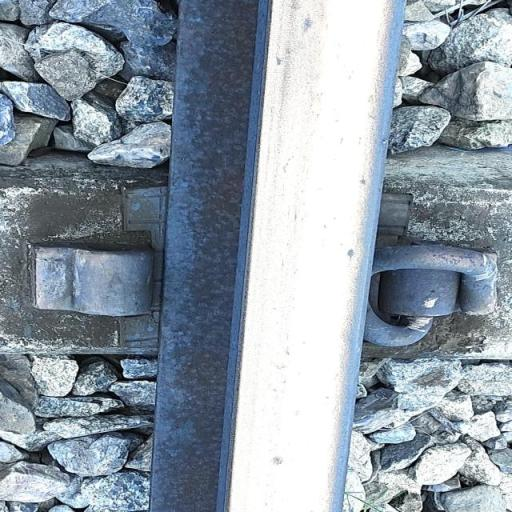erc_good: (352, 231, 508, 369)
erc_missing: (0, 241, 171, 346)
